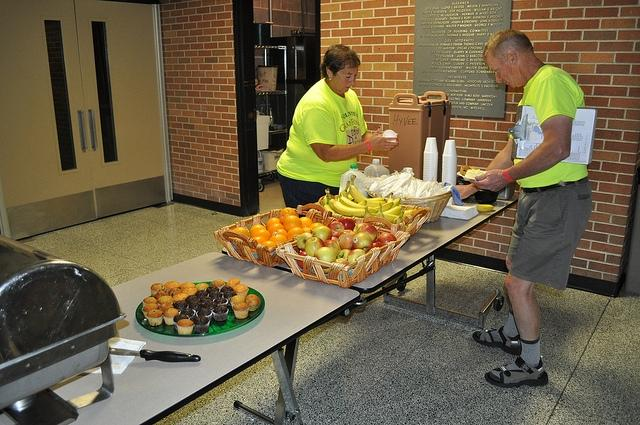banana: (350, 174, 386, 208), (339, 192, 378, 214), (333, 197, 365, 217), (371, 213, 405, 223), (464, 203, 494, 212), (339, 180, 350, 202), (374, 202, 394, 212), (393, 208, 405, 224), (388, 197, 401, 210), (376, 202, 385, 218), (402, 209, 418, 218), (328, 193, 336, 210), (348, 191, 358, 204), (323, 188, 330, 206)
orange: (284, 215, 302, 232), (286, 227, 306, 241), (251, 229, 272, 241), (279, 208, 296, 222), (250, 224, 267, 238), (232, 226, 250, 238), (266, 218, 283, 230), (268, 224, 284, 236), (269, 234, 288, 244), (299, 216, 313, 229), (309, 222, 324, 229), (262, 240, 276, 247), (302, 228, 312, 232)
